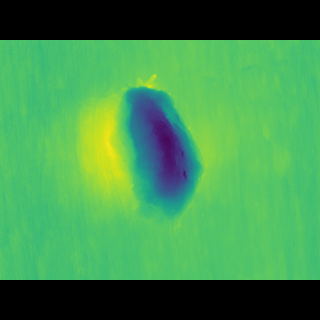Loch: (103, 91, 214, 218)
